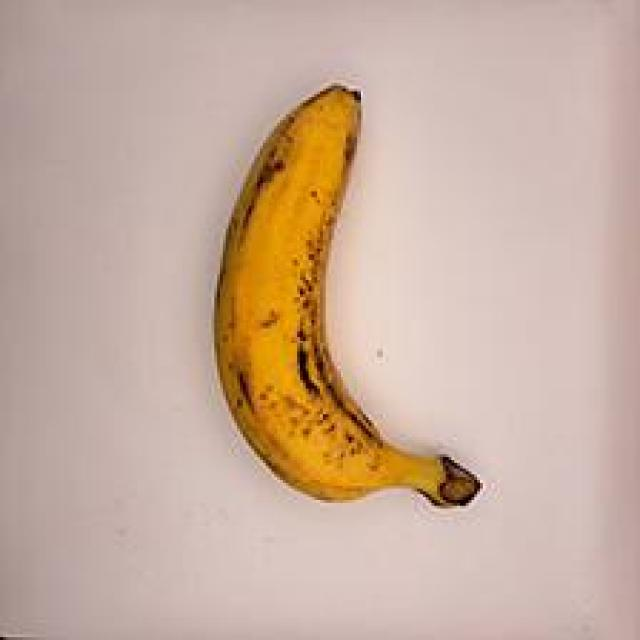Overripe: (200, 62, 503, 544)
